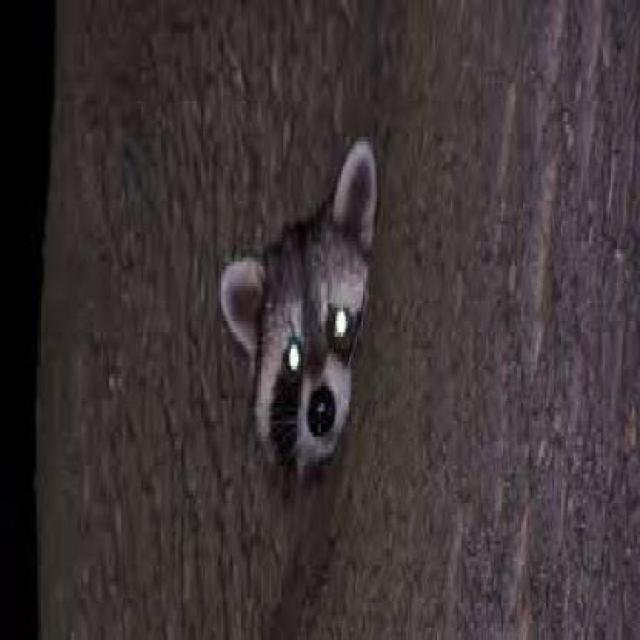raccon: (214, 134, 381, 469)
